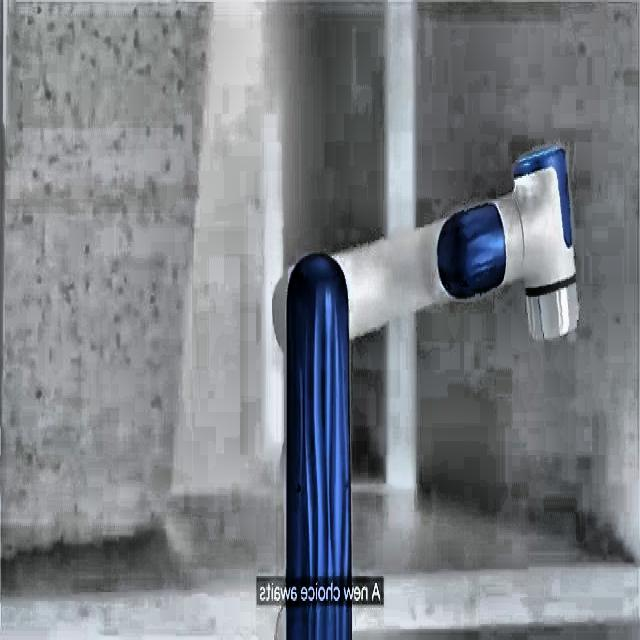robot: (279, 143, 580, 636)
